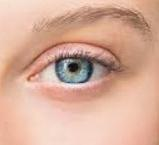eye: (55, 56, 93, 84)
